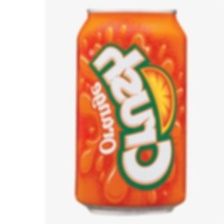can: (71, 4, 191, 217)
